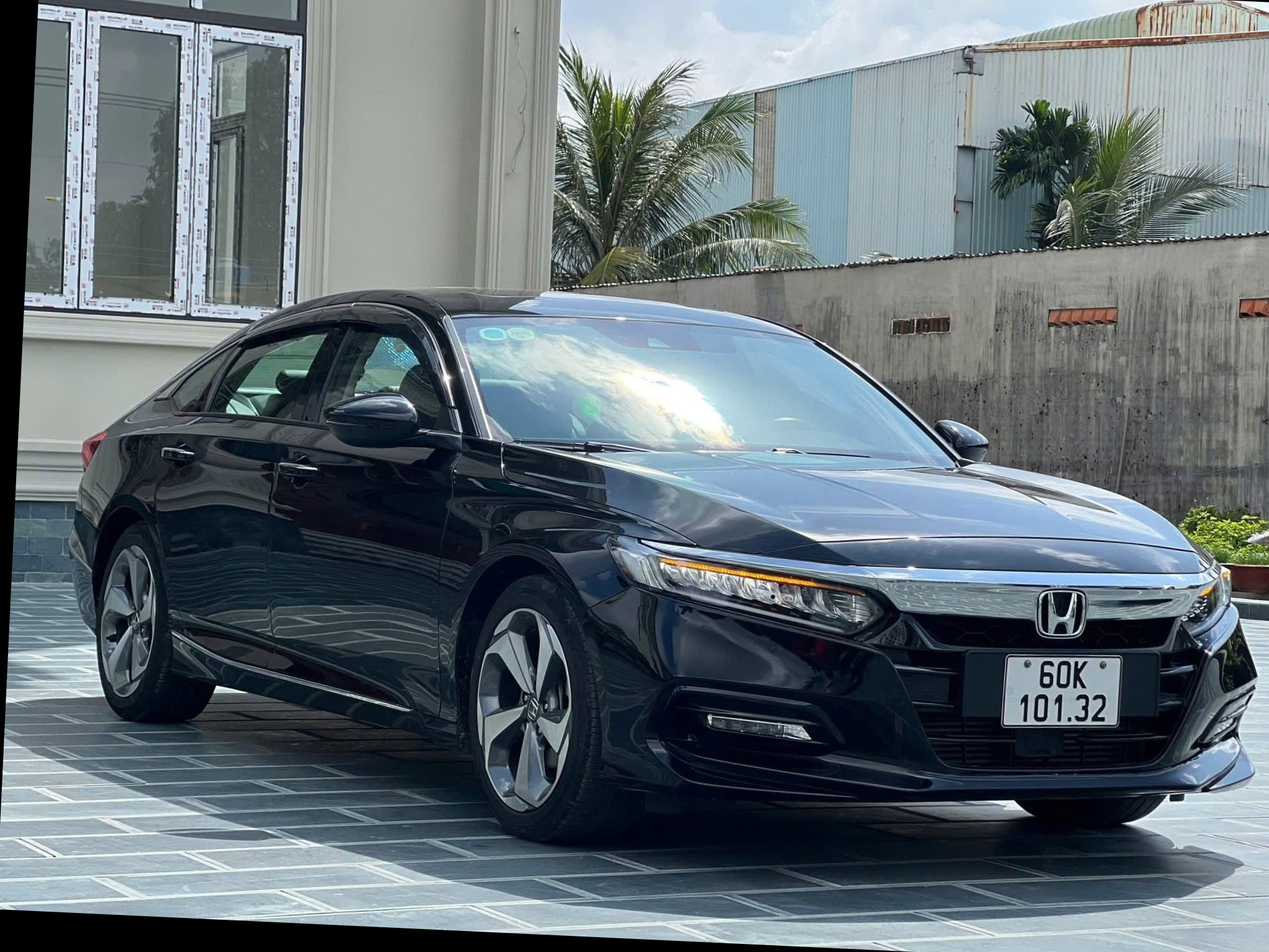Bien-so: (945, 675, 1076, 765)
